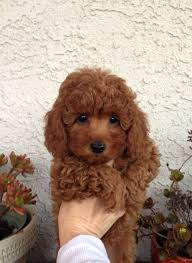Poodle: (30, 45, 167, 249)
